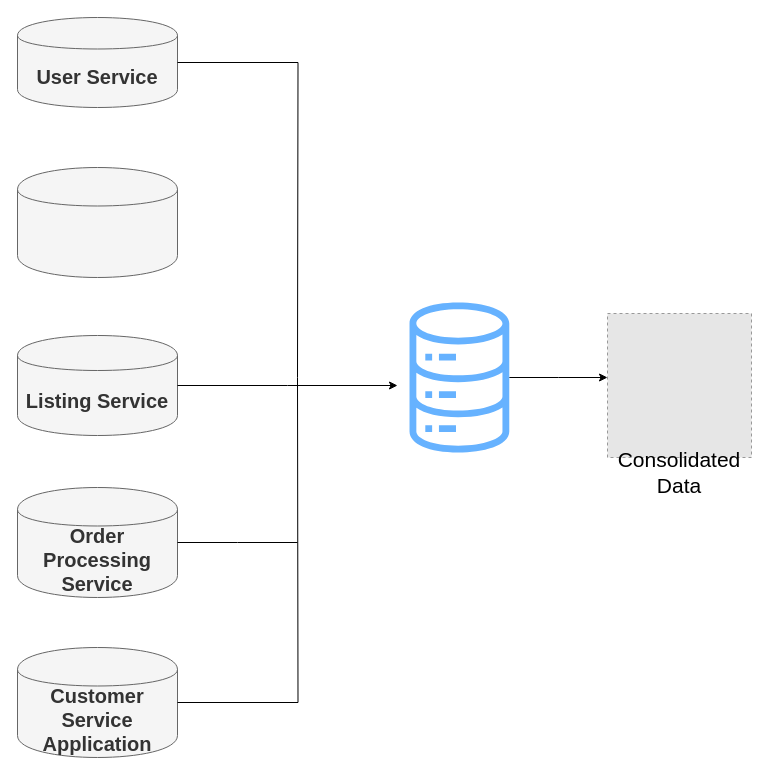
Image size: 769x775. Some labels were removed from this diagram. Grey dashed boxes stand in for pictures. Here are the shapes that lost their labels. From the top down, the box of each, then its label:
(16, 166, 178, 278): Inventory Management System
(407, 302, 511, 452): Registry MDM
